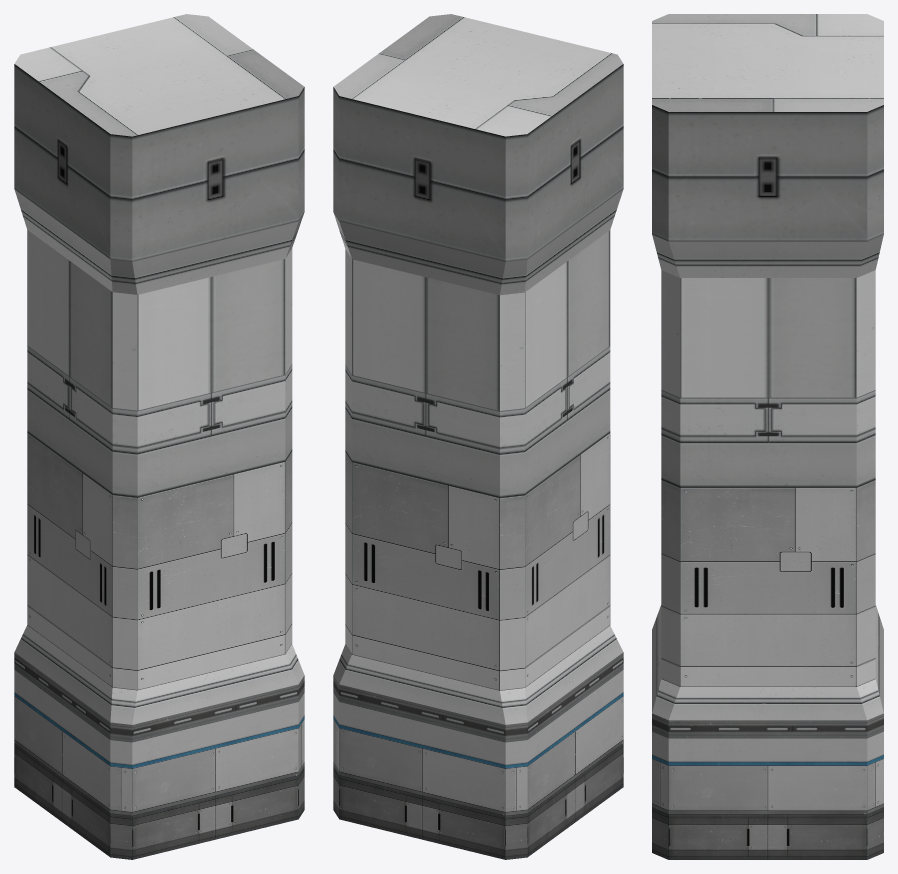
The model's file is Ext_Pillard_01.FBX.
3 views of the same model, side by side, from view 1: azimuth 30°, elevation 25°; view 2: azimuth 150°, elevation 25°; view 3: azimuth 270°, elevation 25° (orthographic). The views are drawn at different scales.
Parts seen in each view (by area): view 1: Ext_Pillard_01; view 2: Ext_Pillard_01; view 3: Ext_Pillard_01.
Boxes of the visible parts, x1,y1,x2,y2 form: Ext_Pillard_01: [14, 14, 304, 859]; Ext_Pillard_01: [333, 14, 623, 859]; Ext_Pillard_01: [652, 14, 883, 859].
Bounding box in the file's own units: 211 × 750 × 211.
